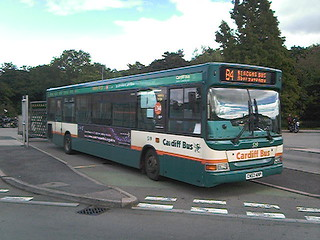bus: (43, 61, 283, 188)
